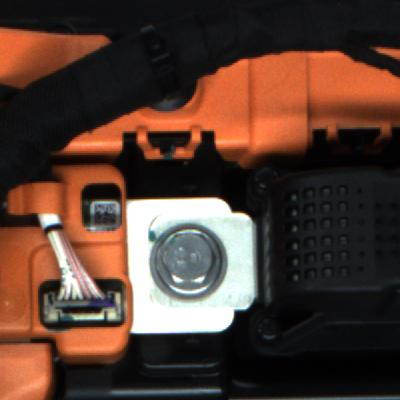nut_b: (140, 219, 234, 304)
